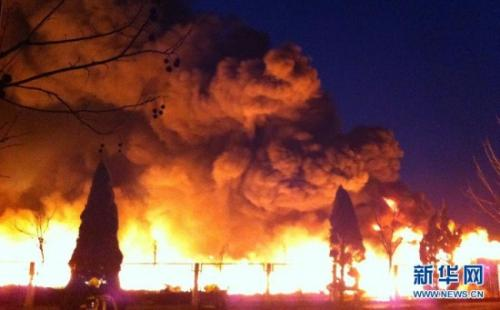fire: (2, 206, 500, 298)
smoke: (2, 13, 404, 193)
